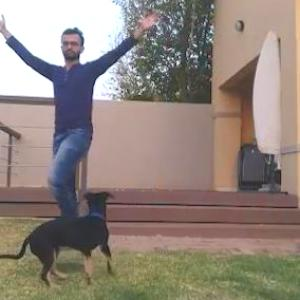takeoff: (0, 13, 164, 248)
